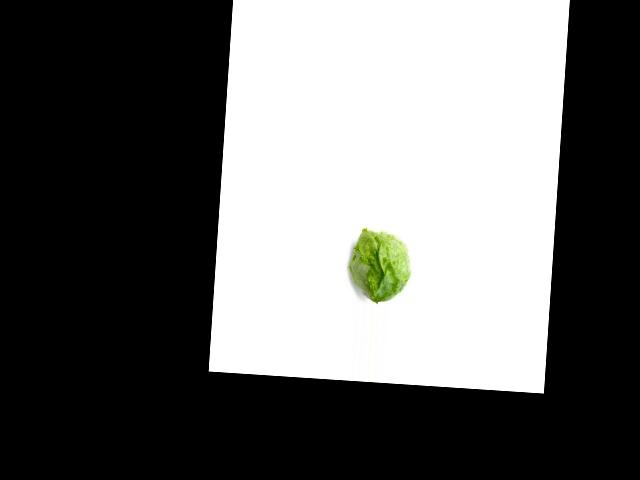lettuce: (343, 228, 417, 304)
